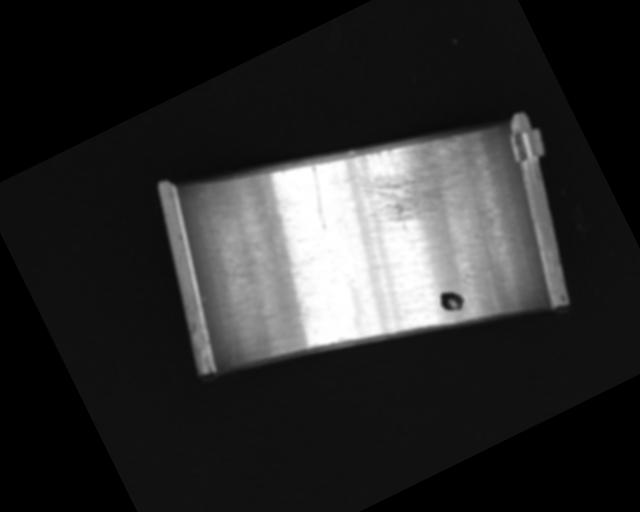blot: (435, 284, 467, 317)
nick: (193, 263, 277, 369), (294, 165, 342, 234)
scratch: (343, 108, 486, 241)
